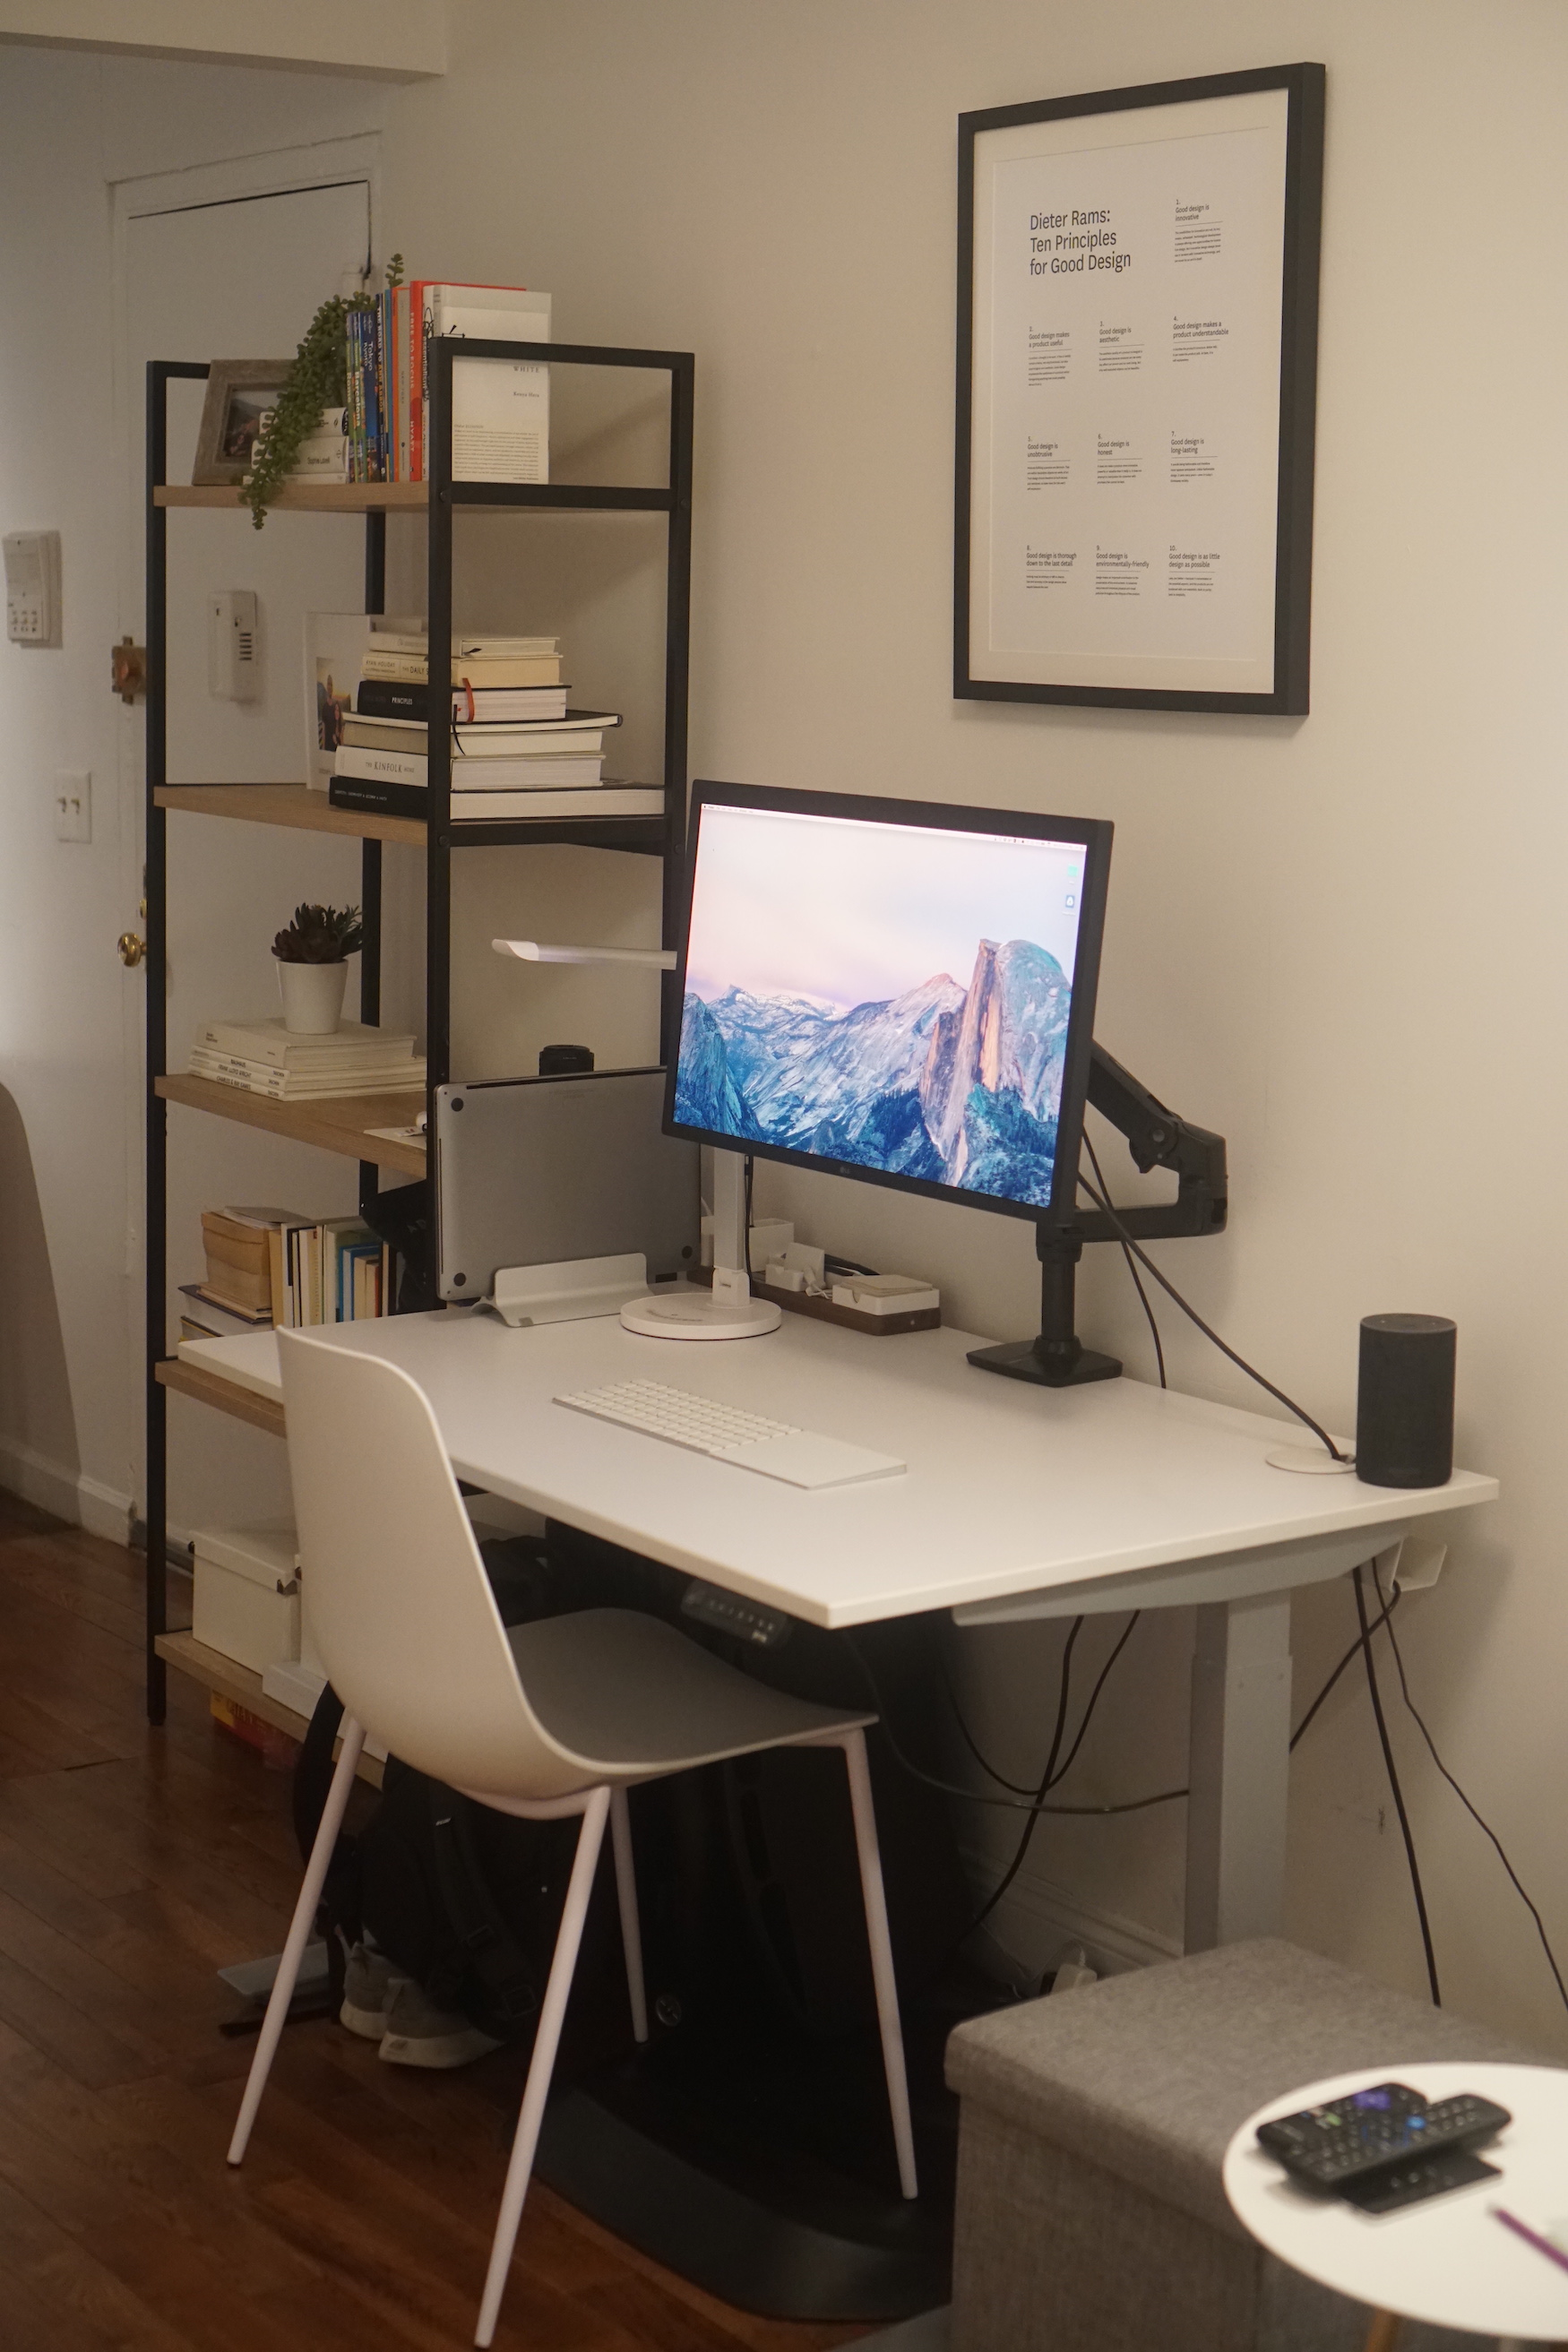Chair (Generic): (231, 1304, 961, 2350)
Decoration (Picture): (954, 59, 1328, 733)
Desk (Standing): (171, 1246, 1505, 2352)
Footrest: (455, 1820, 1188, 2352)
IoT Devices (Raspberry, Arduino, etc): (1333, 1277, 1465, 1521)
Keyboard (Generic): (556, 1358, 777, 1472)
Lamp (Desk): (474, 898, 794, 1375)
Laptop (OSX): (406, 1067, 710, 1314)
Laptop Stand: (450, 1249, 674, 1326)
Monitor (Landscape): (661, 773, 1270, 1403)
Monitor Arm: (1001, 1018, 1227, 1393)
Mouse (Magic Trackpad): (714, 1410, 913, 1505)
